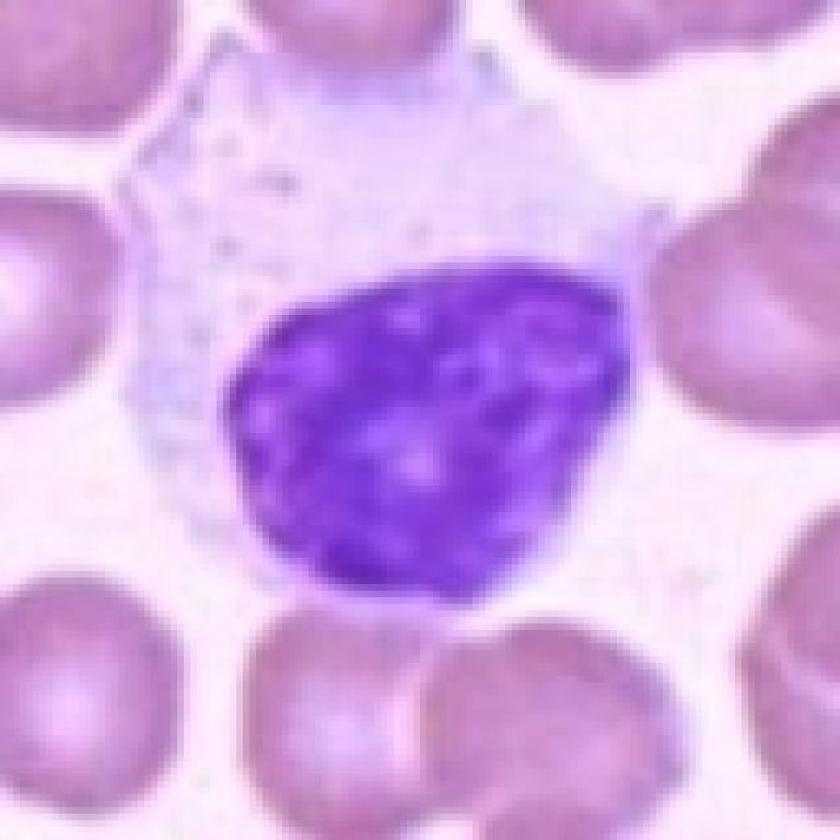lymphocyte: (190, 215, 653, 618)
